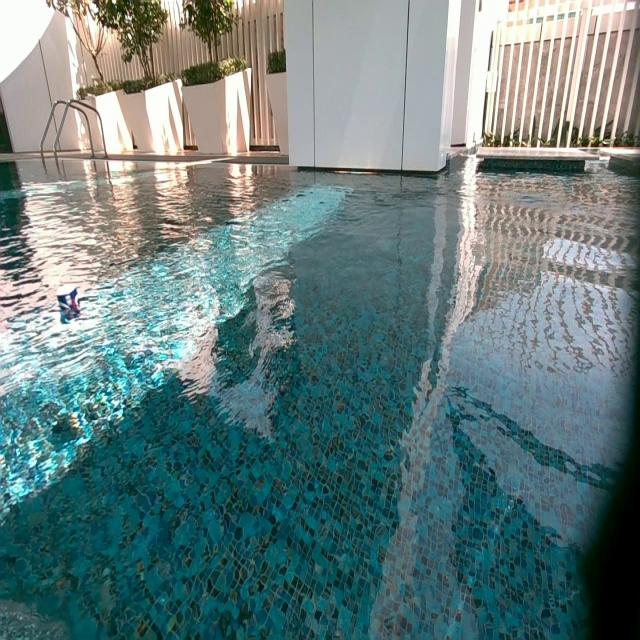Cans: (57, 289, 81, 317)
